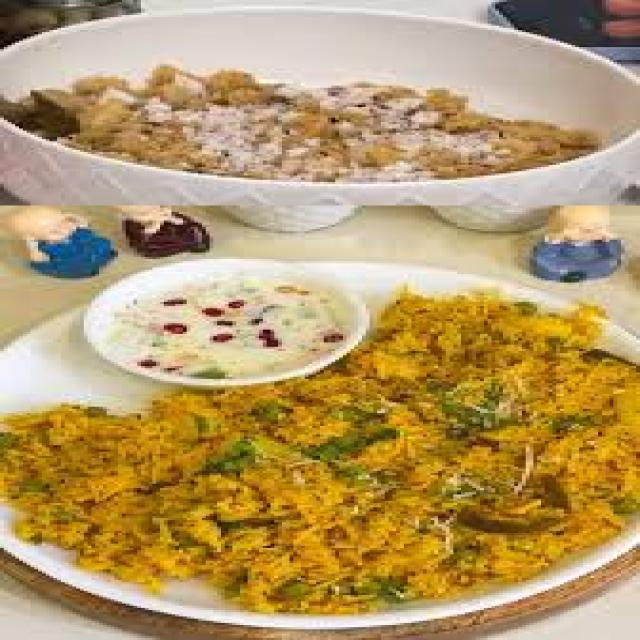POHA: (0, 289, 636, 606), (11, 62, 590, 176)
